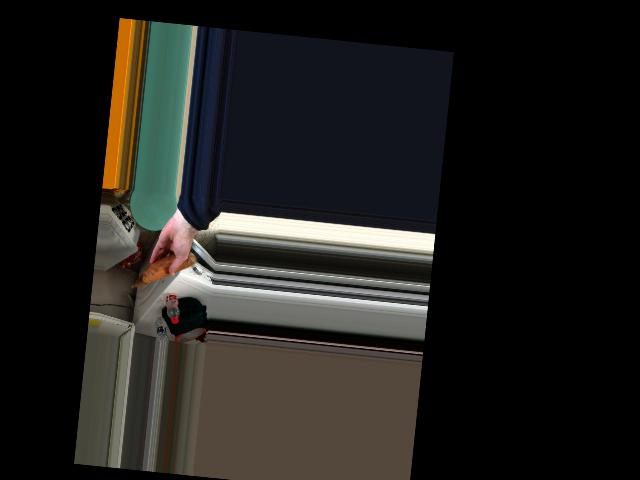sweet_potato: (146, 251, 182, 288)
